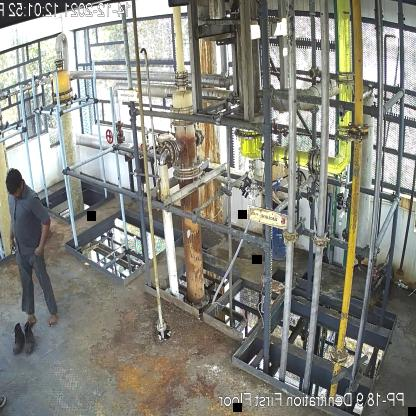no_shoes: (48, 306, 61, 327)
shoes: (9, 321, 26, 360), (23, 321, 38, 354)
